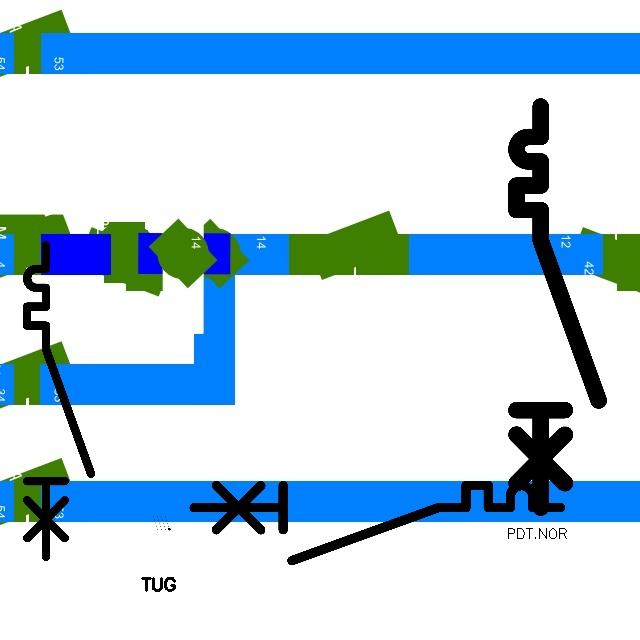interruptor_termomagnetico: (506, 96, 609, 518), (184, 476, 569, 570), (19, 237, 99, 565)
